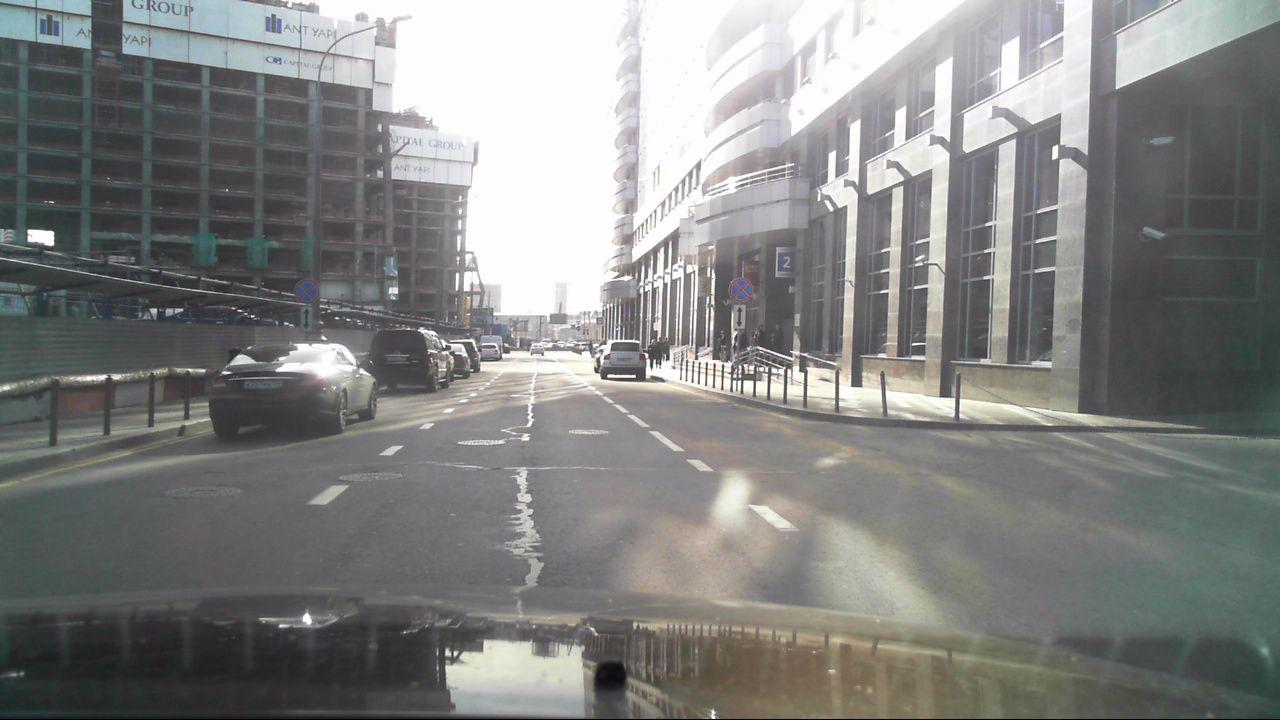3_27: (730, 276, 754, 303), (296, 277, 318, 303)
8_2_4: (731, 303, 747, 331), (299, 306, 314, 333)
